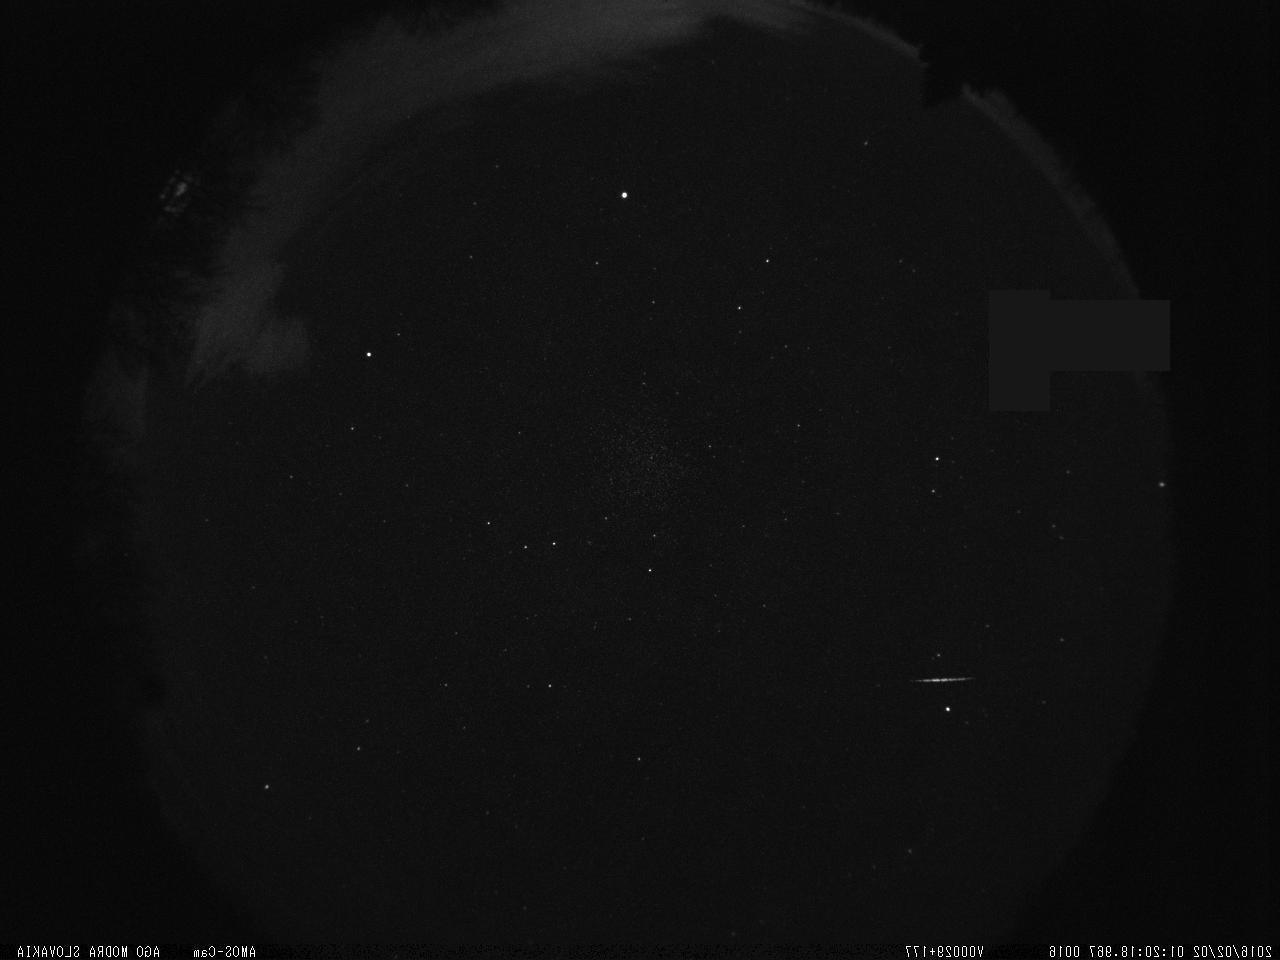meteor: (893, 658, 997, 694)
